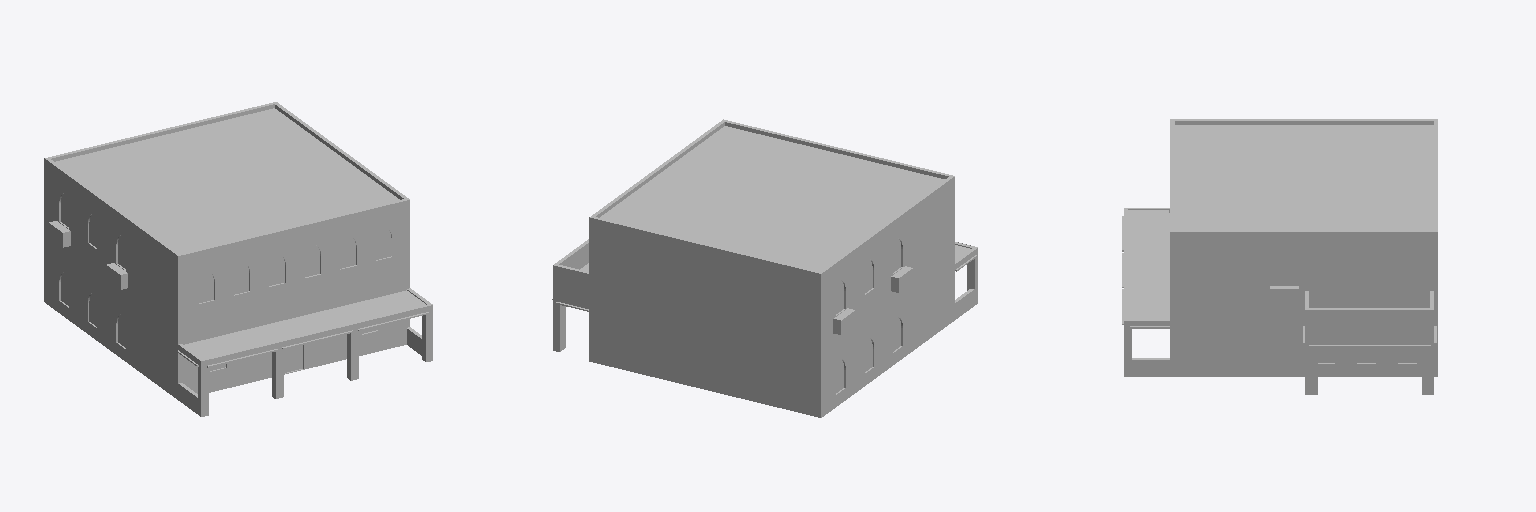
Rendered from House1.obj.
The picture shows the model from 3 angles: view 1: azimuth 30°, elevation 25°; view 2: azimuth 150°, elevation 25°; view 3: azimuth 270°, elevation 25°; orthographic projection.
Parts seen in each view (by area): view 1: House:ArabBuild1; view 2: House:ArabBuild1; view 3: House:ArabBuild1.
Boxes of the visible parts, <box> form: House:ArabBuild1: <box>44,102,432,416</box>; House:ArabBuild1: <box>552,119,977,417</box>; House:ArabBuild1: <box>1122,119,1437,394</box>.
Size of the model in its own units: 953 by 469 by 930.